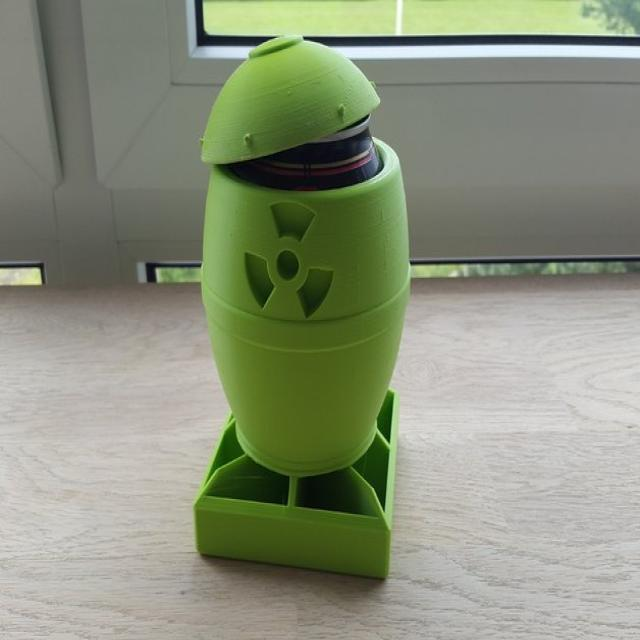Without deffect: (172, 20, 439, 627)
